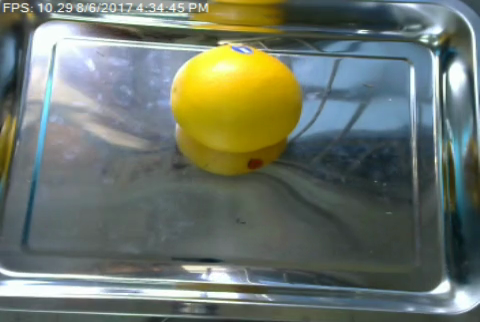Orange: (169, 44, 304, 150)
